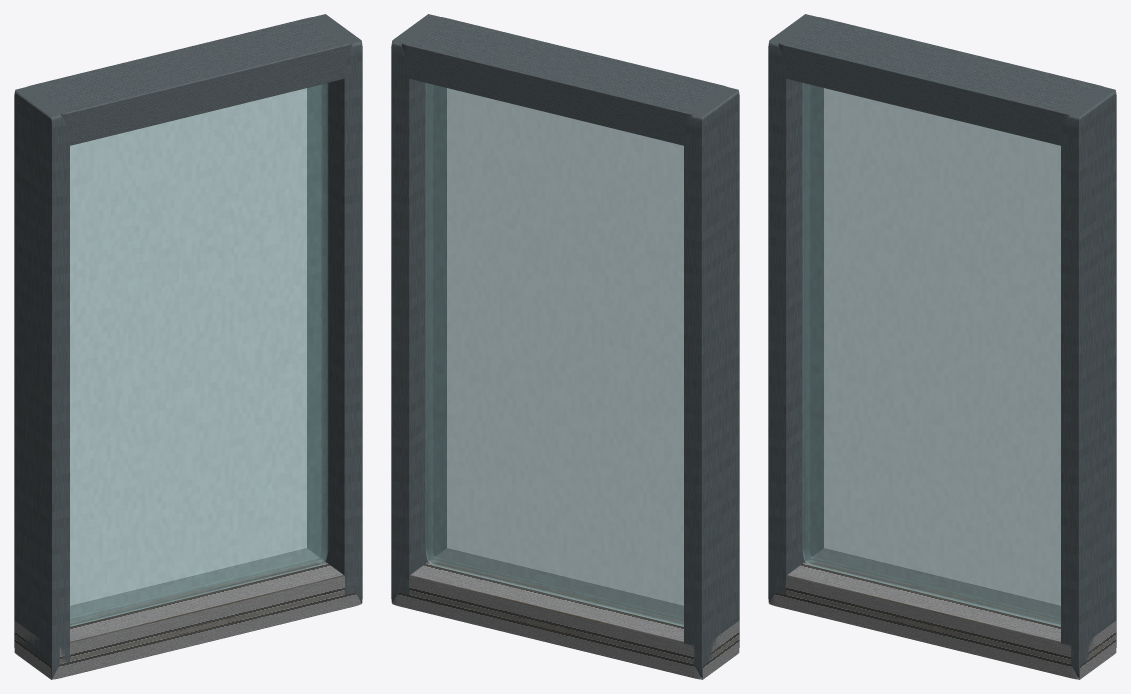
File: door-light.glb
The picture shows the model from 3 angles, left to right: view 1: azimuth 30°, elevation 25°; view 2: azimuth 150°, elevation 25°; view 3: azimuth 330°, elevation 25°; orthographic projection.
Parts seen in each view (by area): view 1: glazing, jamb (×2), sill, head; view 2: glazing, jamb (×2), sill, head; view 3: glazing, jamb (×2), sill, head.
Part boxes in pixels (x1,y1,x2,y2): glazing: (70,83,328,626); jamb (×2): (14,14,362,679); sill: (14,548,362,679); head: (28,17,352,145); glazing: (425,83,683,626); jamb (×2): (391,14,739,679); sill: (391,548,739,679); head: (401,17,725,145); glazing: (802,83,1060,626); jamb (×2): (768,14,1116,679); sill: (768,548,1116,679); head: (778,17,1102,145).
Size of the model in its own units: 0.26 by 0.45 by 0.055.
Materials: 3 (3 with a texture image).
